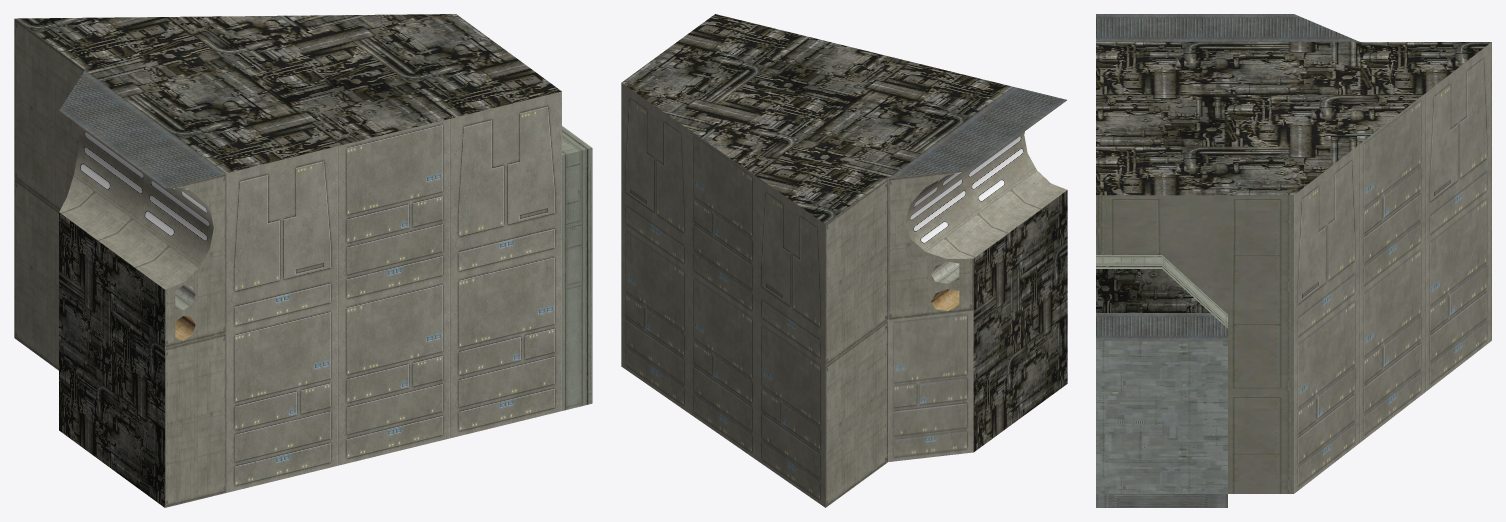
File: thm_tato_lucky_despot_r7_fresher01_mesh_r7.fbx
The picture shows the model from 3 angles, left to right: view 1: azimuth 30°, elevation 25°; view 2: azimuth 150°, elevation 25°; view 3: azimuth 270°, elevation 25°; orthographic projection. The views are drawn at different scales.
Parts seen in each view (by area): view 1: mesh_node; view 2: mesh_node; view 3: mesh_node.
Part boxes in pixels (box(x1,y1,x2,y2)): mesh_node: box(14, 14, 592, 507); mesh_node: box(621, 14, 1067, 507); mesh_node: box(1096, 14, 1491, 507).
Size of the model in its own units: 7 by 5 by 6.
